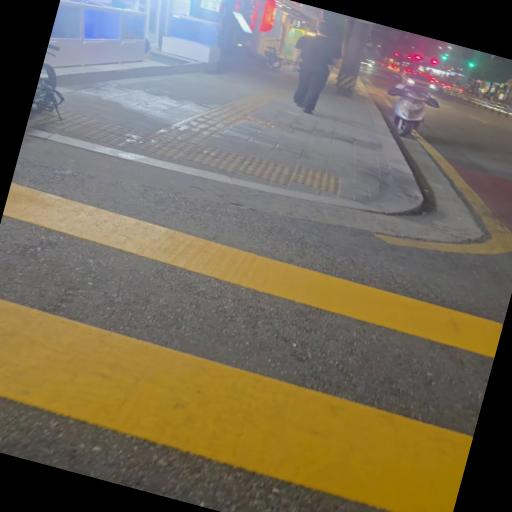yellow-crosswalk: (0, 175, 507, 512)
